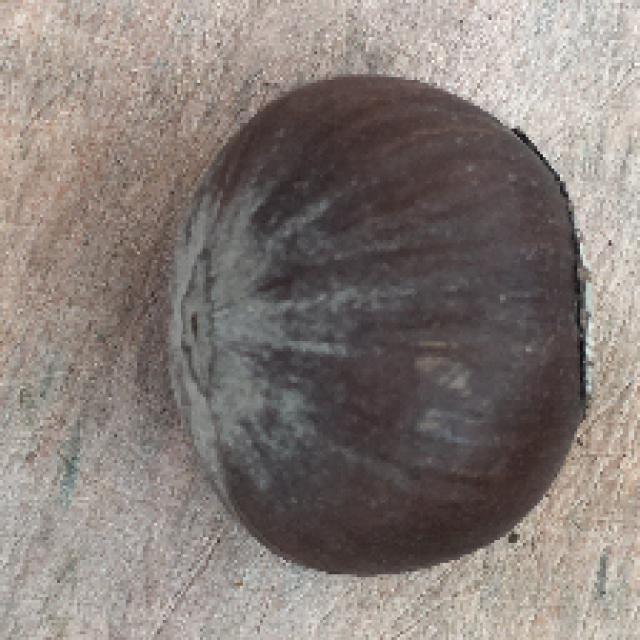damagedHazelnut: (158, 71, 598, 586)
